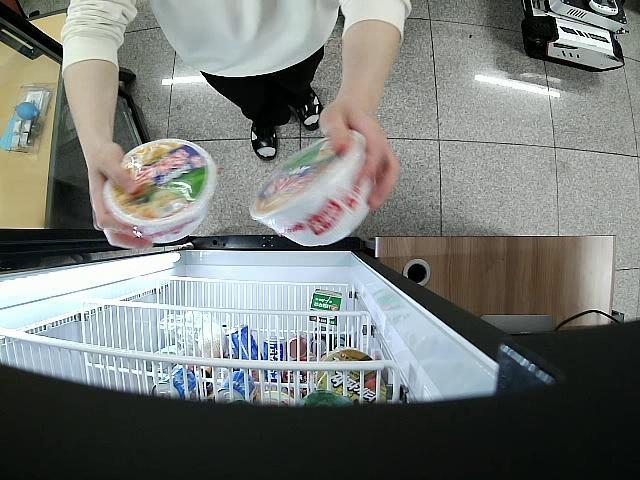09_yukGaeJang: (250, 131, 376, 246), (104, 138, 218, 244)
